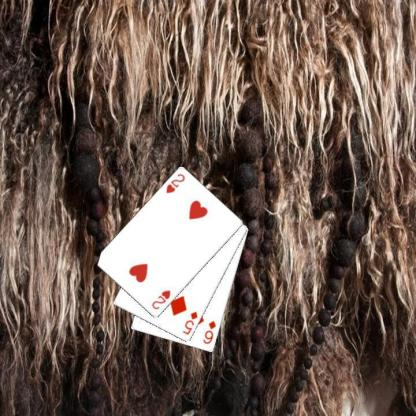2H: (149, 288, 172, 311), (164, 172, 186, 194)
5D: (180, 309, 199, 336)
6D: (200, 318, 218, 346)
